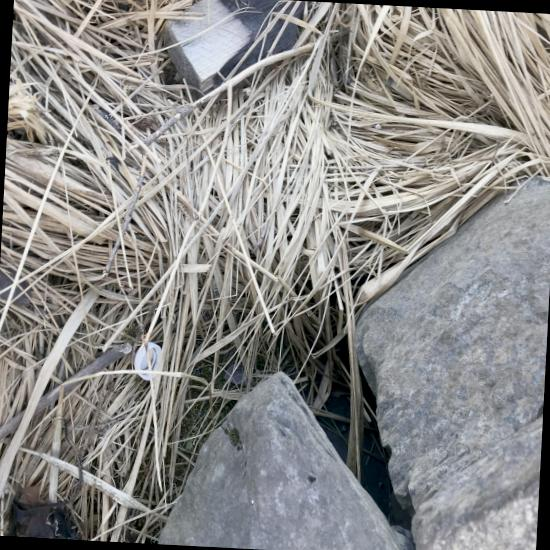Glass bottle: (379, 75, 443, 120), (341, 468, 364, 545)
Other plastic: (303, 93, 328, 111)
